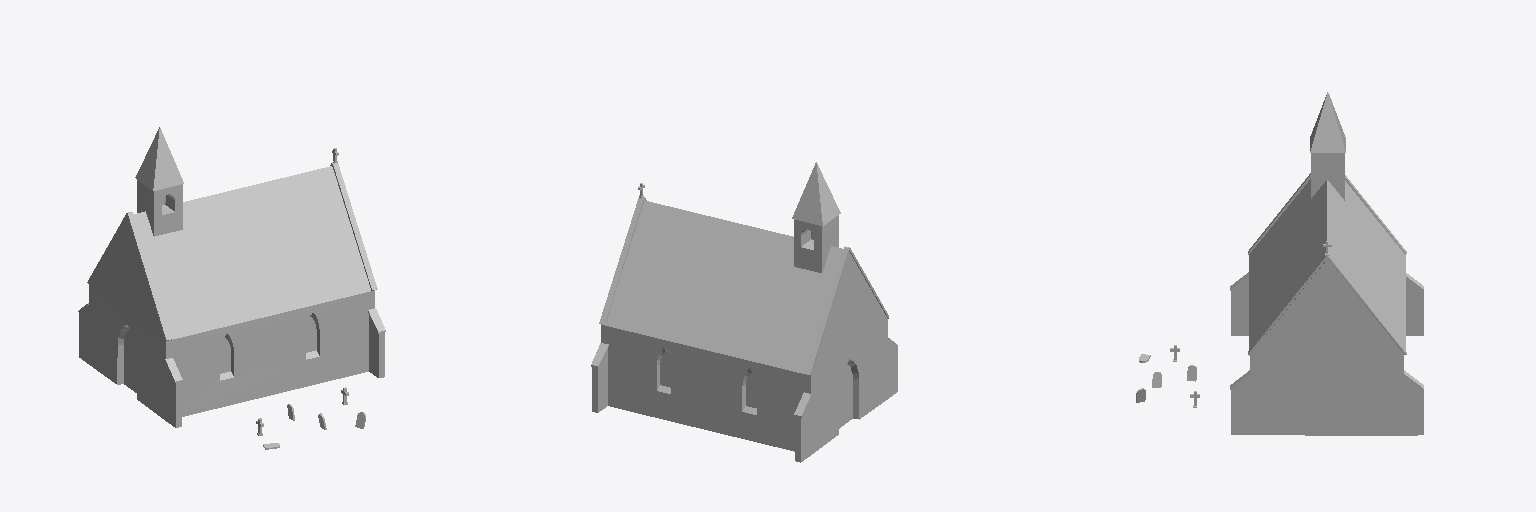
Rendered from Chapel.obj.
3 renders of one model, left to right at view 1: azimuth 30°, elevation 25°; view 2: azimuth 150°, elevation 25°; view 3: azimuth 270°, elevation 25°, orthographic.
Parts seen in each view (by area): view 1: Chapel; view 2: Chapel; view 3: Chapel.
Part boxes in pixels (left/top/right/bottom): Chapel: left=78, top=127, right=385, bottom=449; Chapel: left=591, top=162, right=897, bottom=462; Chapel: left=1136, top=92, right=1423, bottom=435.
Size of the model in its own units: 1157 by 1357 by 1367.